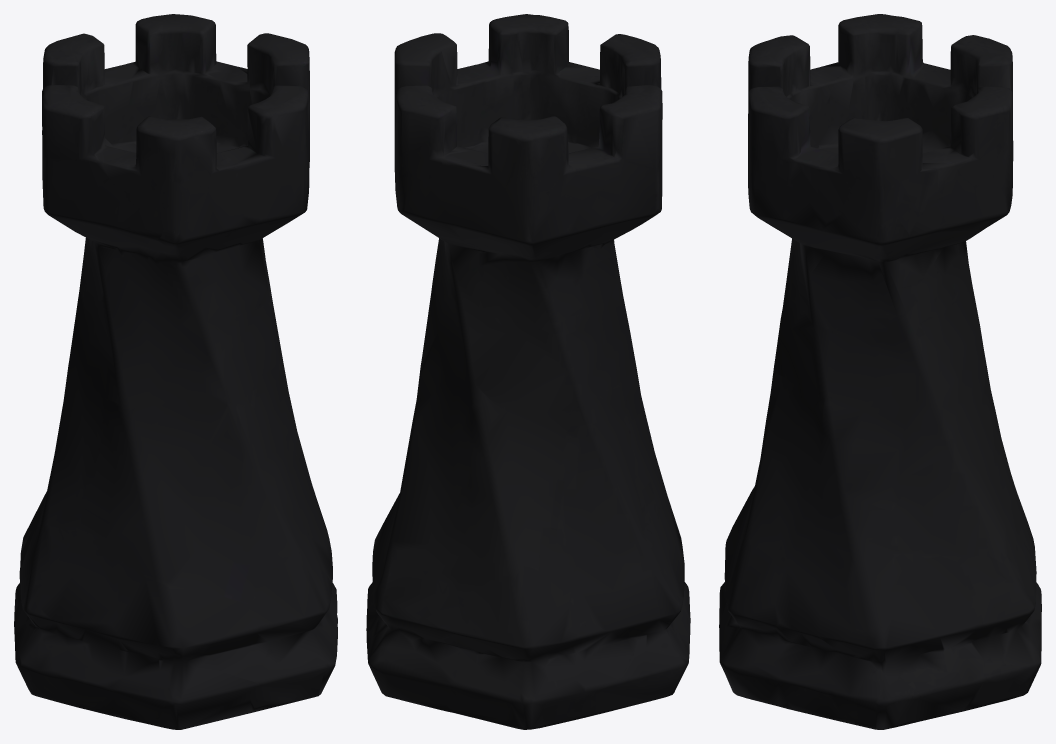
File: rook-black.glb
The picture shows the model from 3 angles, left to right: view 1: azimuth 30°, elevation 25°; view 2: azimuth 150°, elevation 25°; view 3: azimuth 270°, elevation 25°; orthographic projection.
Bounding box in the file's own units: 0.6203 × 1.1 × 0.5488.
1 material, 1 textured.
